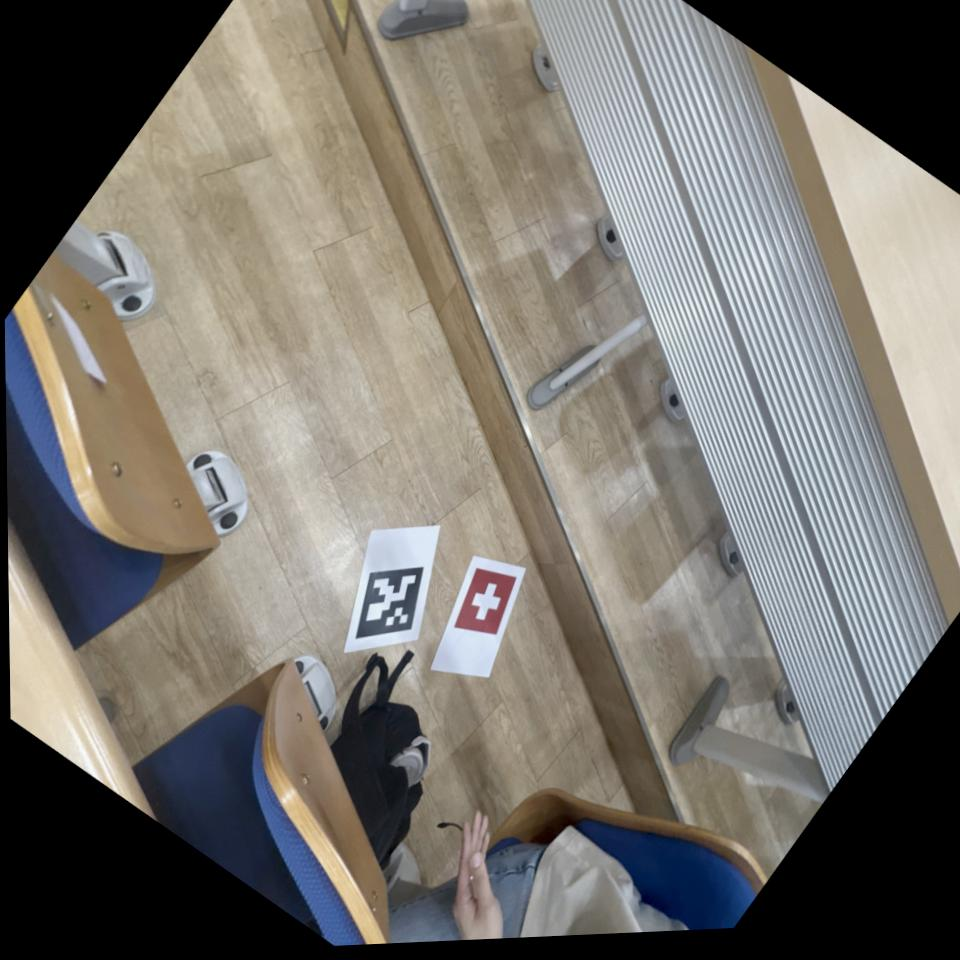ArUro mark: (324, 534, 454, 674)
rescue point: (431, 544, 543, 662)
